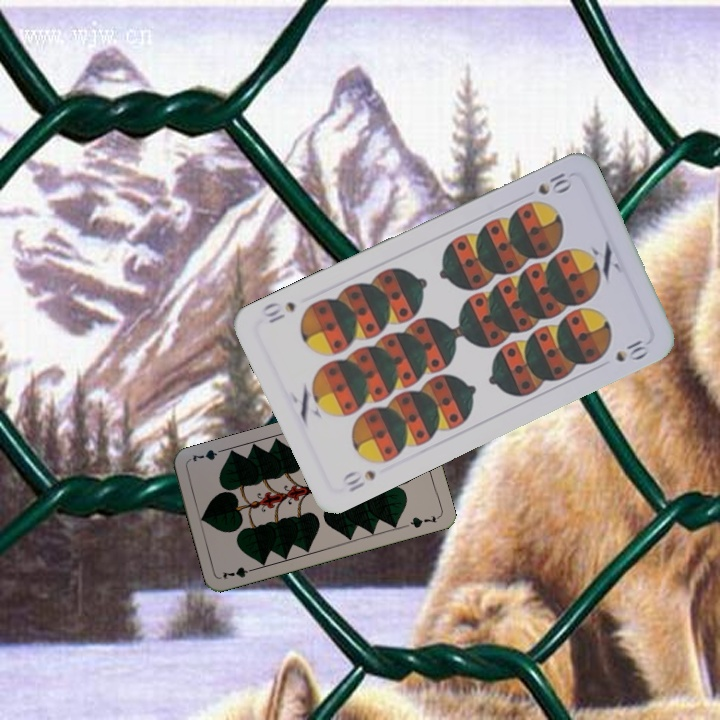G7: (218, 563, 259, 582)
S10: (534, 168, 575, 198), (339, 466, 379, 495)
